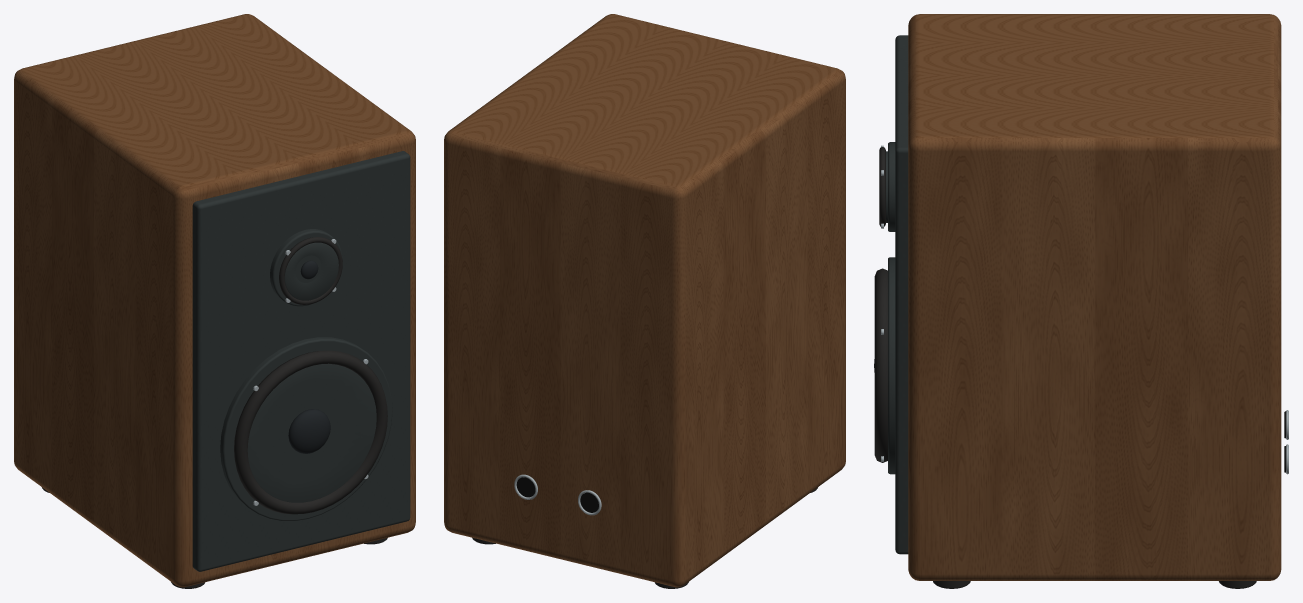
Rendered from speaker.glb.
3 renders of one model, left to right at view 1: azimuth 30°, elevation 25°; view 2: azimuth 150°, elevation 25°; view 3: azimuth 270°, elevation 25°, orthographic. The views are drawn at different scales.
Parts seen in each view (by area): view 1: Veneered speaker cabinet, Recessed acoustic baffle, Low frequency driver dark mounting rebate, Low frequency driver dished cone, Low frequency driver flexible surround, High frequency driver dished cone, Low frequency driver central dome, High frequency driver dark mounting rebate, High frequency driver flexible surround; view 2: Veneered speaker cabinet; view 3: Veneered speaker cabinet, Recessed acoustic baffle, Low frequency driver flexible surround, Low frequency driver dark mounting rebate, High frequency driver dark mounting rebate.
Boxes of the visible parts, x1,y1,x2,y2 form: Veneered speaker cabinet: [14, 14, 415, 587]; Recessed acoustic baffle: [192, 151, 410, 571]; Low frequency driver dark mounting rebate: [220, 337, 392, 520]; Low frequency driver dished cone: [247, 363, 376, 502]; Low frequency driver flexible surround: [234, 350, 387, 514]; High frequency driver dished cone: [284, 242, 338, 300]; Low frequency driver central dome: [288, 409, 330, 453]; High frequency driver dark mounting rebate: [270, 229, 342, 306]; High frequency driver flexible surround: [279, 237, 342, 304]; Veneered speaker cabinet: [444, 14, 845, 587]; Veneered speaker cabinet: [908, 14, 1281, 580]; Recessed acoustic baffle: [895, 35, 908, 554]; Low frequency driver flexible surround: [874, 268, 887, 462]; Low frequency driver dark mounting rebate: [888, 257, 895, 474]; High frequency driver dark mounting rebate: [888, 142, 895, 231].
Size of the model in its own units: 0.205 by 0.335 by 0.2757.
7 materials, 7 textured.
